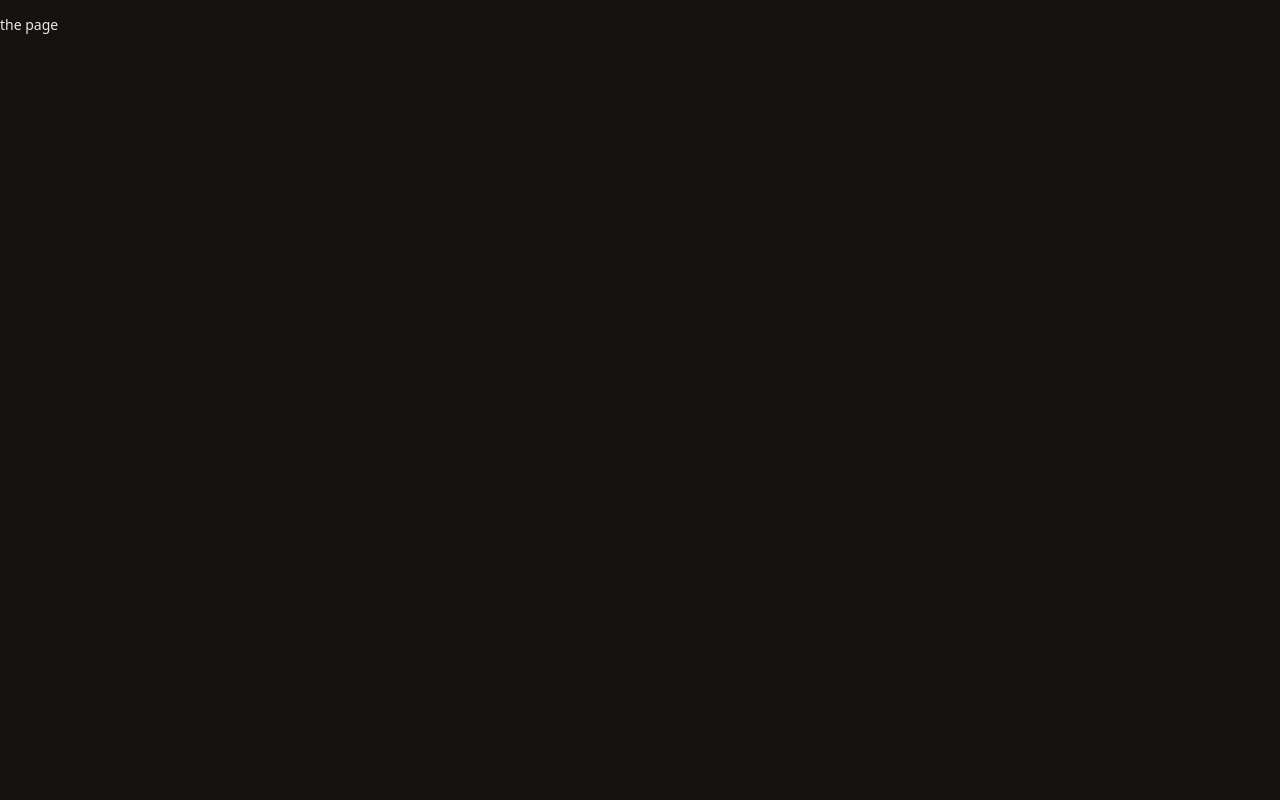
the command palette › says nothing matched rather than showing an empty list
This screenshot has width=1280, height=800.
Type keys "{Control>}k{/Control}"
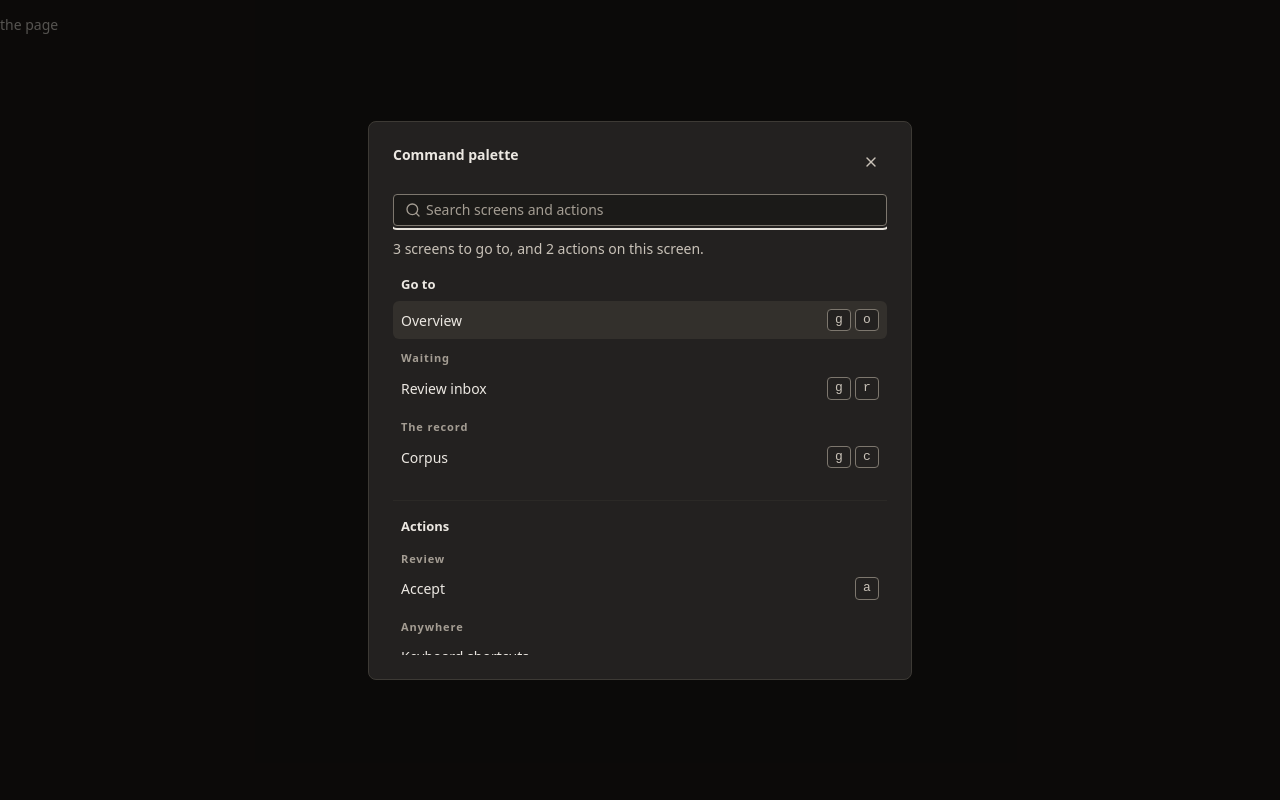
Type "zzzz" into the dropdown.
click(640, 210); type("zzzz")  # box [393,194,887,226]
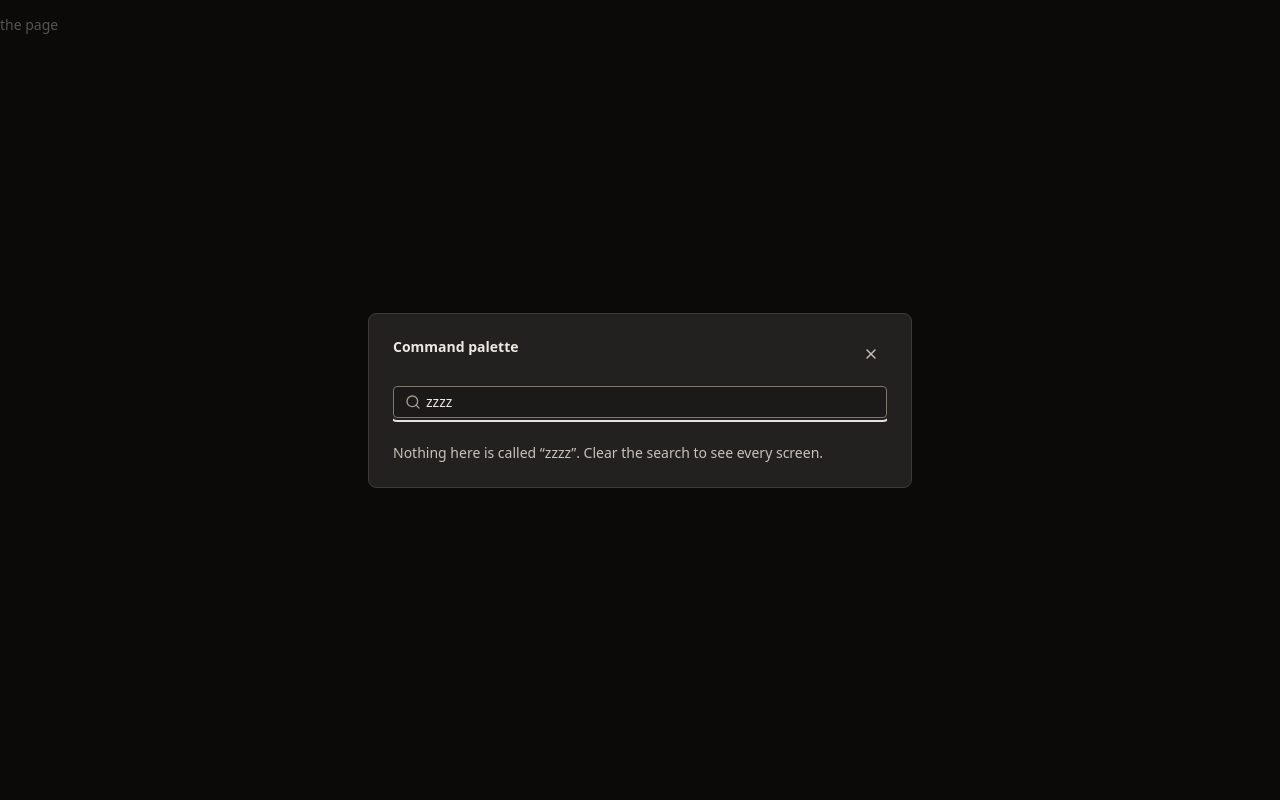
Check: no options are shown
Check: the text "Nothing here is called" is shown, box [393,442,545,462]
